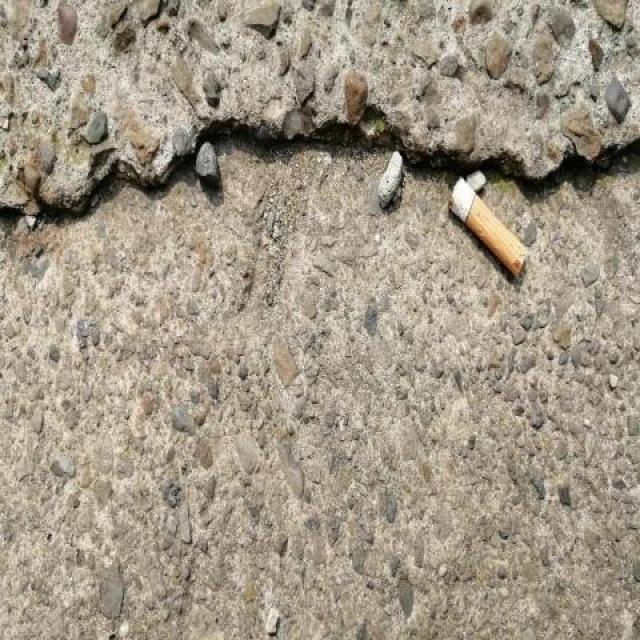non-organic waste: (444, 174, 532, 285)
